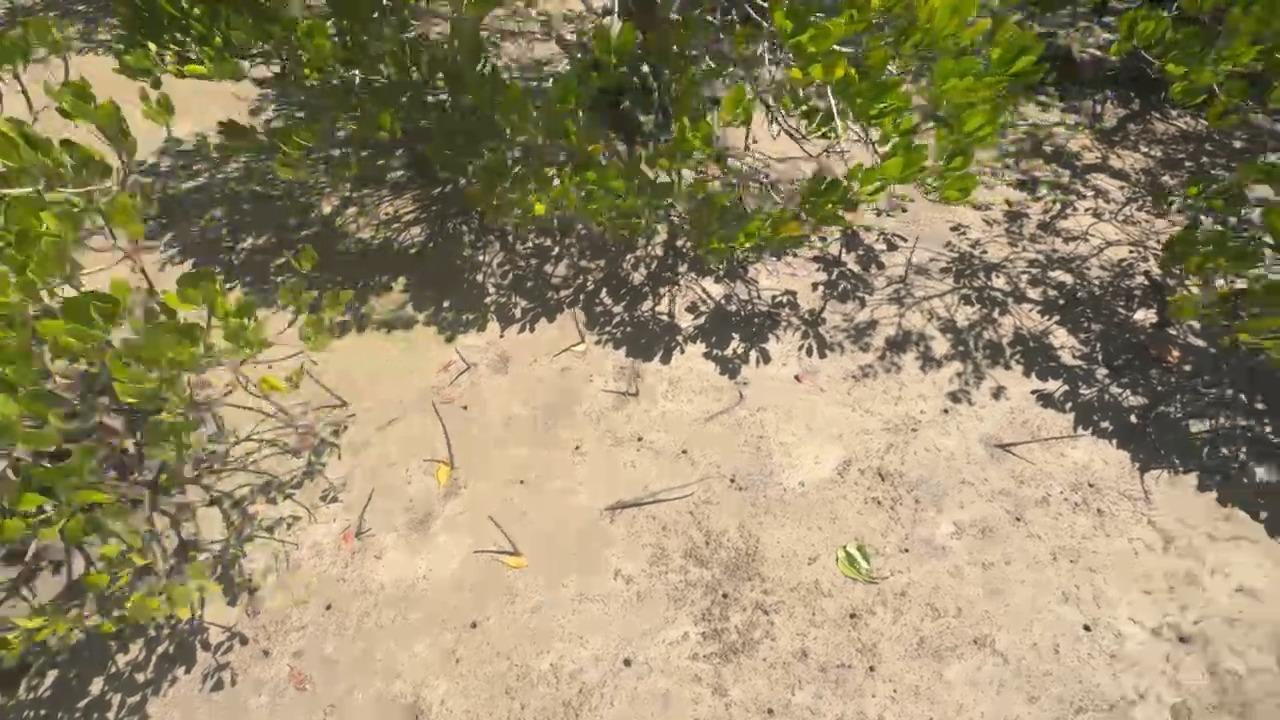Tree: (301, 364, 347, 405), (603, 492, 695, 510), (431, 401, 454, 469), (996, 433, 1087, 447), (489, 515, 519, 554), (356, 487, 375, 537), (902, 237, 919, 283), (572, 306, 585, 343), (599, 386, 641, 396), (454, 347, 470, 368)
